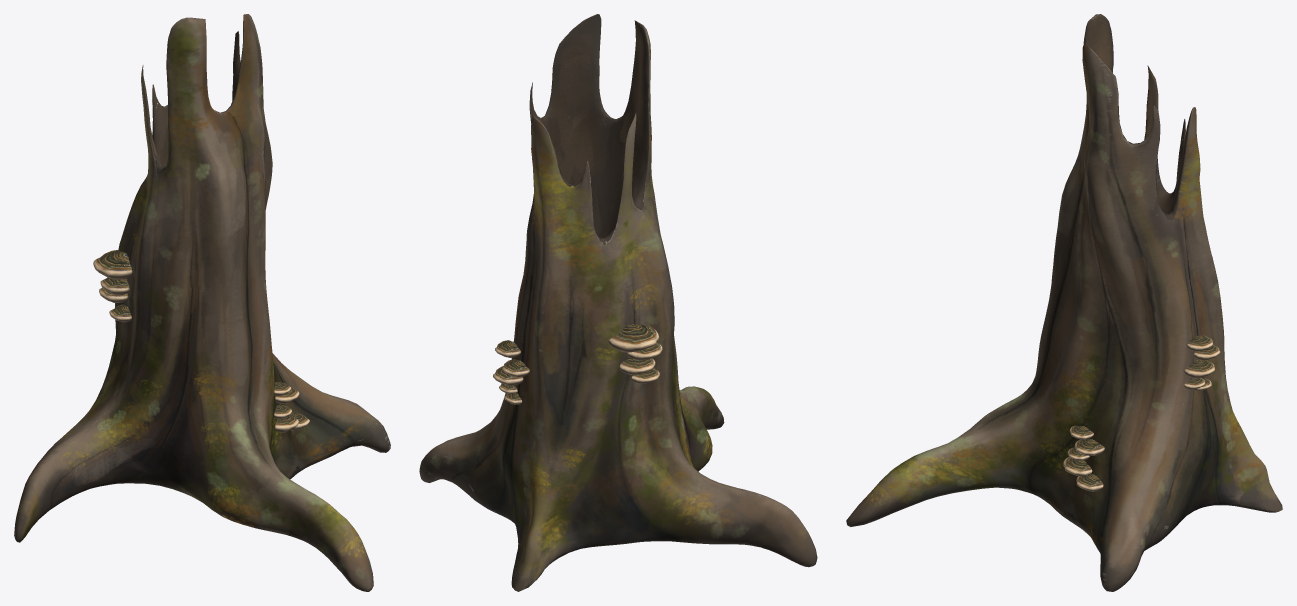
File: Stumpf.glb
3 renders of one model, left to right at view 1: azimuth 30°, elevation 25°; view 2: azimuth 150°, elevation 25°; view 3: azimuth 270°, elevation 25°, orthographic. The views are drawn at different scales.
Parts seen in each view (by area): view 1: Patch, Quad-Kugel_Quad-Kugel; view 2: Patch, Quad-Kugel_Quad-Kugel; view 3: Patch.
Part boxes in pixels (<box>): Patch: <box>14,14,390,591</box>; Quad-Kugel_Quad-Kugel: <box>93,250,132,279</box>; Patch: <box>419,14,817,591</box>; Quad-Kugel_Quad-Kugel: <box>608,324,658,352</box>; Patch: <box>846,14,1282,591</box>.
Bounding box in the file's own units: 1.2 × 1.49 × 1.21.
Materials: 15 (15 with a texture image).
